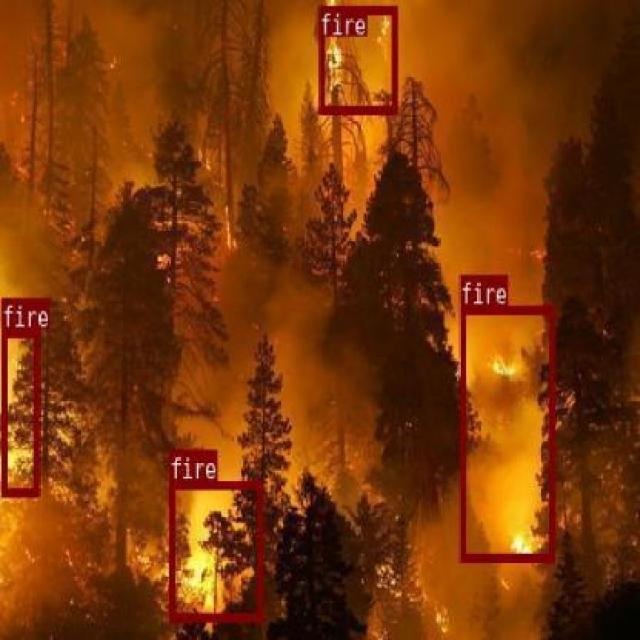Fire: (459, 304, 553, 560), (168, 479, 262, 621), (318, 4, 396, 112), (0, 327, 38, 495)
Smoke: (202, 249, 382, 451), (435, 10, 551, 154)
